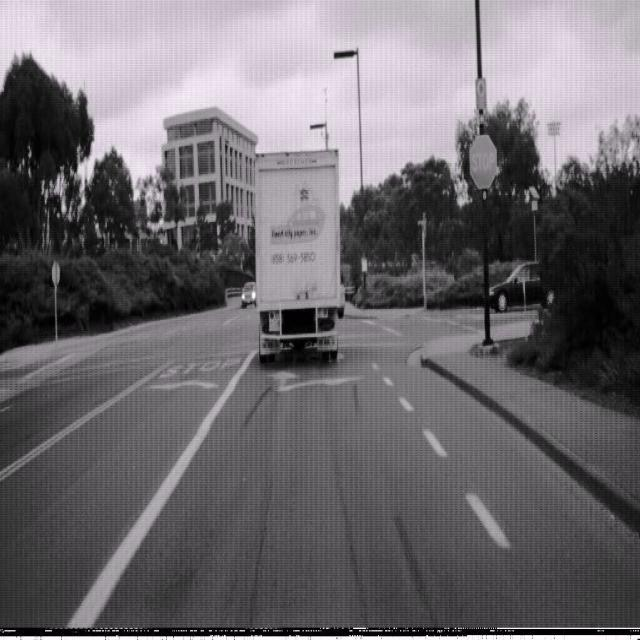stop_sign: (468, 132, 498, 190)
